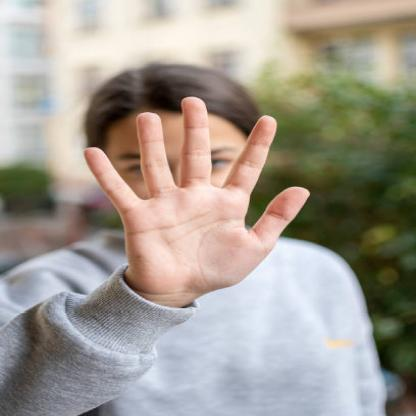stop: (78, 92, 314, 299)
